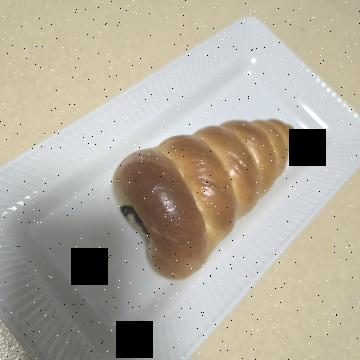cream horn: (100, 47, 302, 267)
